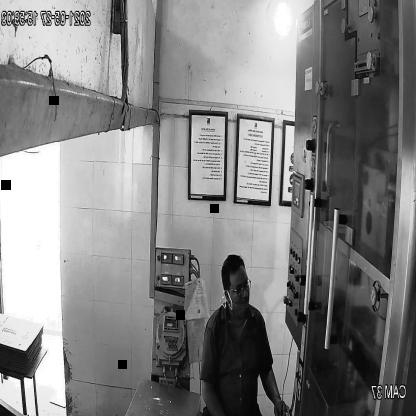goggles: (221, 275, 252, 298)
